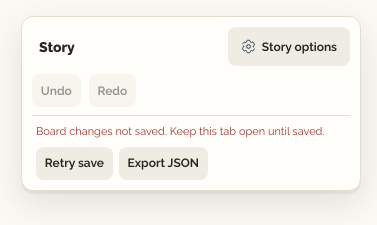
Test: MenuTopComponent › shows a failed save and lets the author retry without opening story options
The width and height of the screenshot is (377, 225).
Click the button "Retry save": (74, 163) [36, 146, 113, 180]
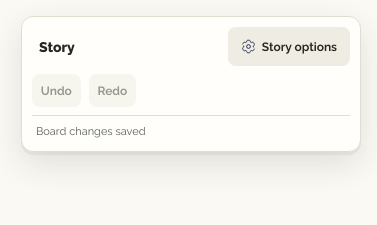
Expected: the text "Board changes saved" is shown, [36, 124, 146, 140]
